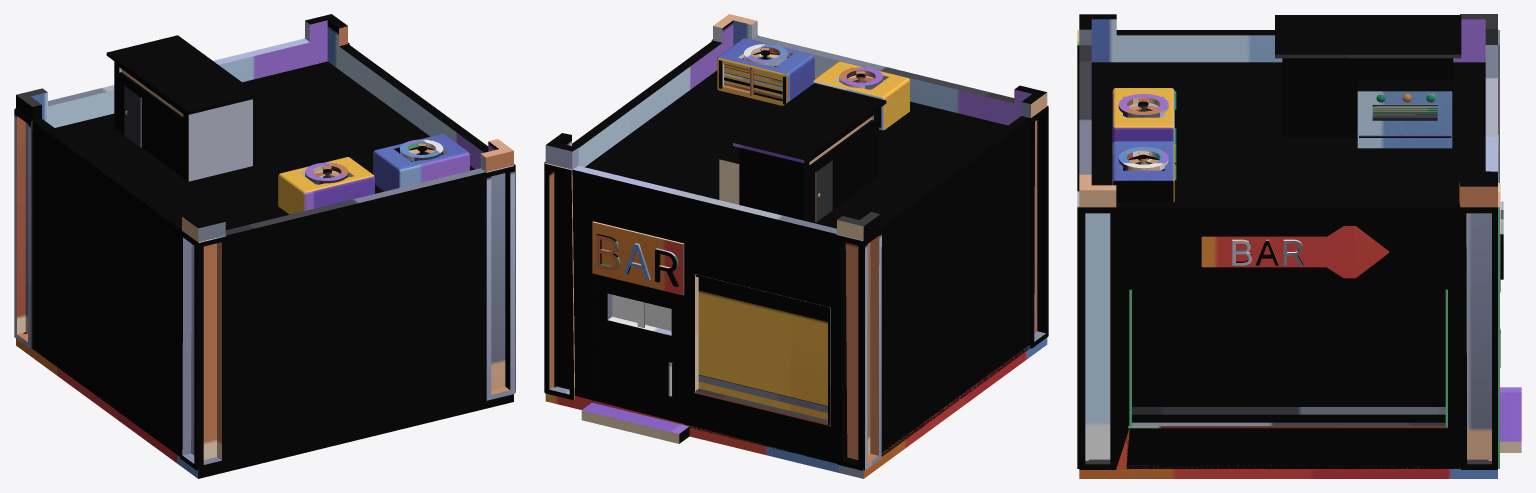
File: Bar.glb
3 views of the same model, side by side, from view 1: azimuth 30°, elevation 25°; view 2: azimuth 150°, elevation 25°; view 3: azimuth 270°, elevation 25° (orthographic). The views are drawn at different scales.
Visible parts, largest first — view 1: Node; view 2: Node; view 3: Node.
Part boxes in pixels (x1=…): Node: x1=14, y1=14, x2=515, y2=478; Node: x1=544, y1=14, x2=1048, y2=478; Node: x1=1077, y1=14, x2=1521, y2=478.
Bounding box in the file's own units: 272 × 231 × 283.
Materials: 1 (1 with a texture image).
